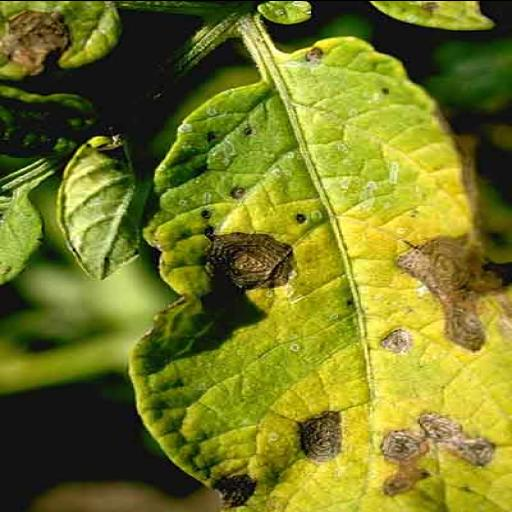disease_tomato: (133, 31, 512, 512)
